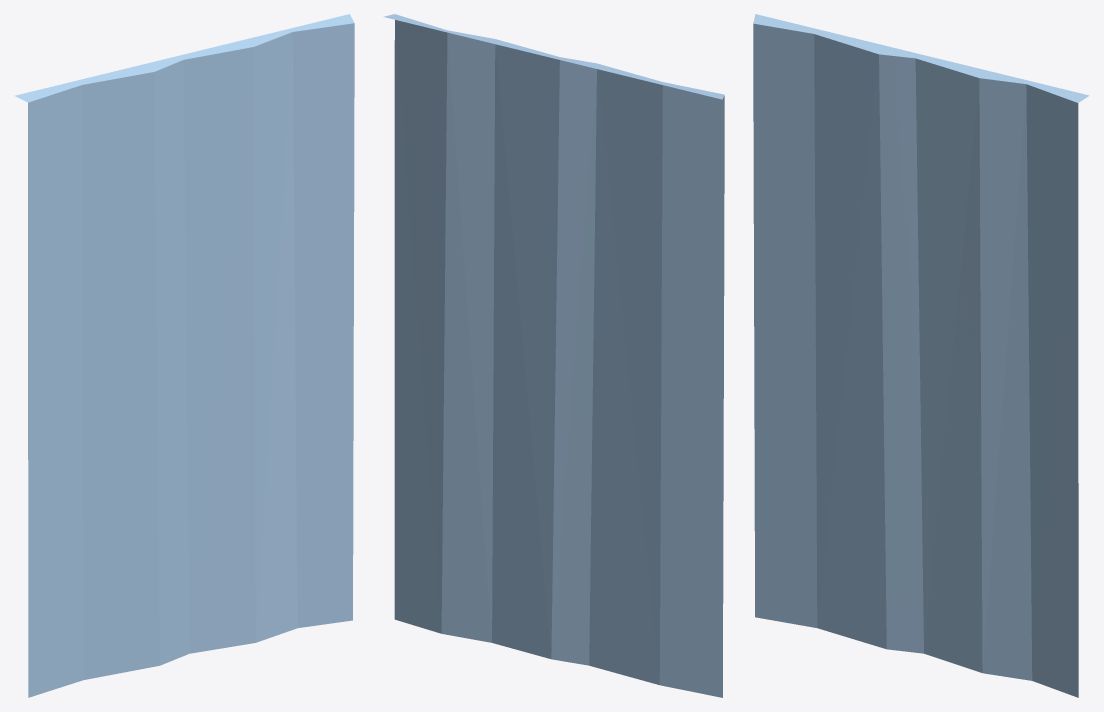
File: Terrain_Modular_Tiles_Waterfall_Medium_01.fbx
The picture shows the model from 3 angles, left to right: view 1: azimuth 30°, elevation 25°; view 2: azimuth 150°, elevation 25°; view 3: azimuth 330°, elevation 25°; orthographic projection.
Visible parts, largest first — view 1: Terrain_Modular_Tiles_Waterfall_Medium_01; view 2: Terrain_Modular_Tiles_Waterfall_Medium_01; view 3: Terrain_Modular_Tiles_Waterfall_Medium_01.
Boxes of the visible parts, x1,y1,x2,y2 form: Terrain_Modular_Tiles_Waterfall_Medium_01: (14,14,354,697); Terrain_Modular_Tiles_Waterfall_Medium_01: (383,14,724,697); Terrain_Modular_Tiles_Waterfall_Medium_01: (753,14,1089,697).
Bounding box in the file's own units: 1500 × 2564 × 63.8.
